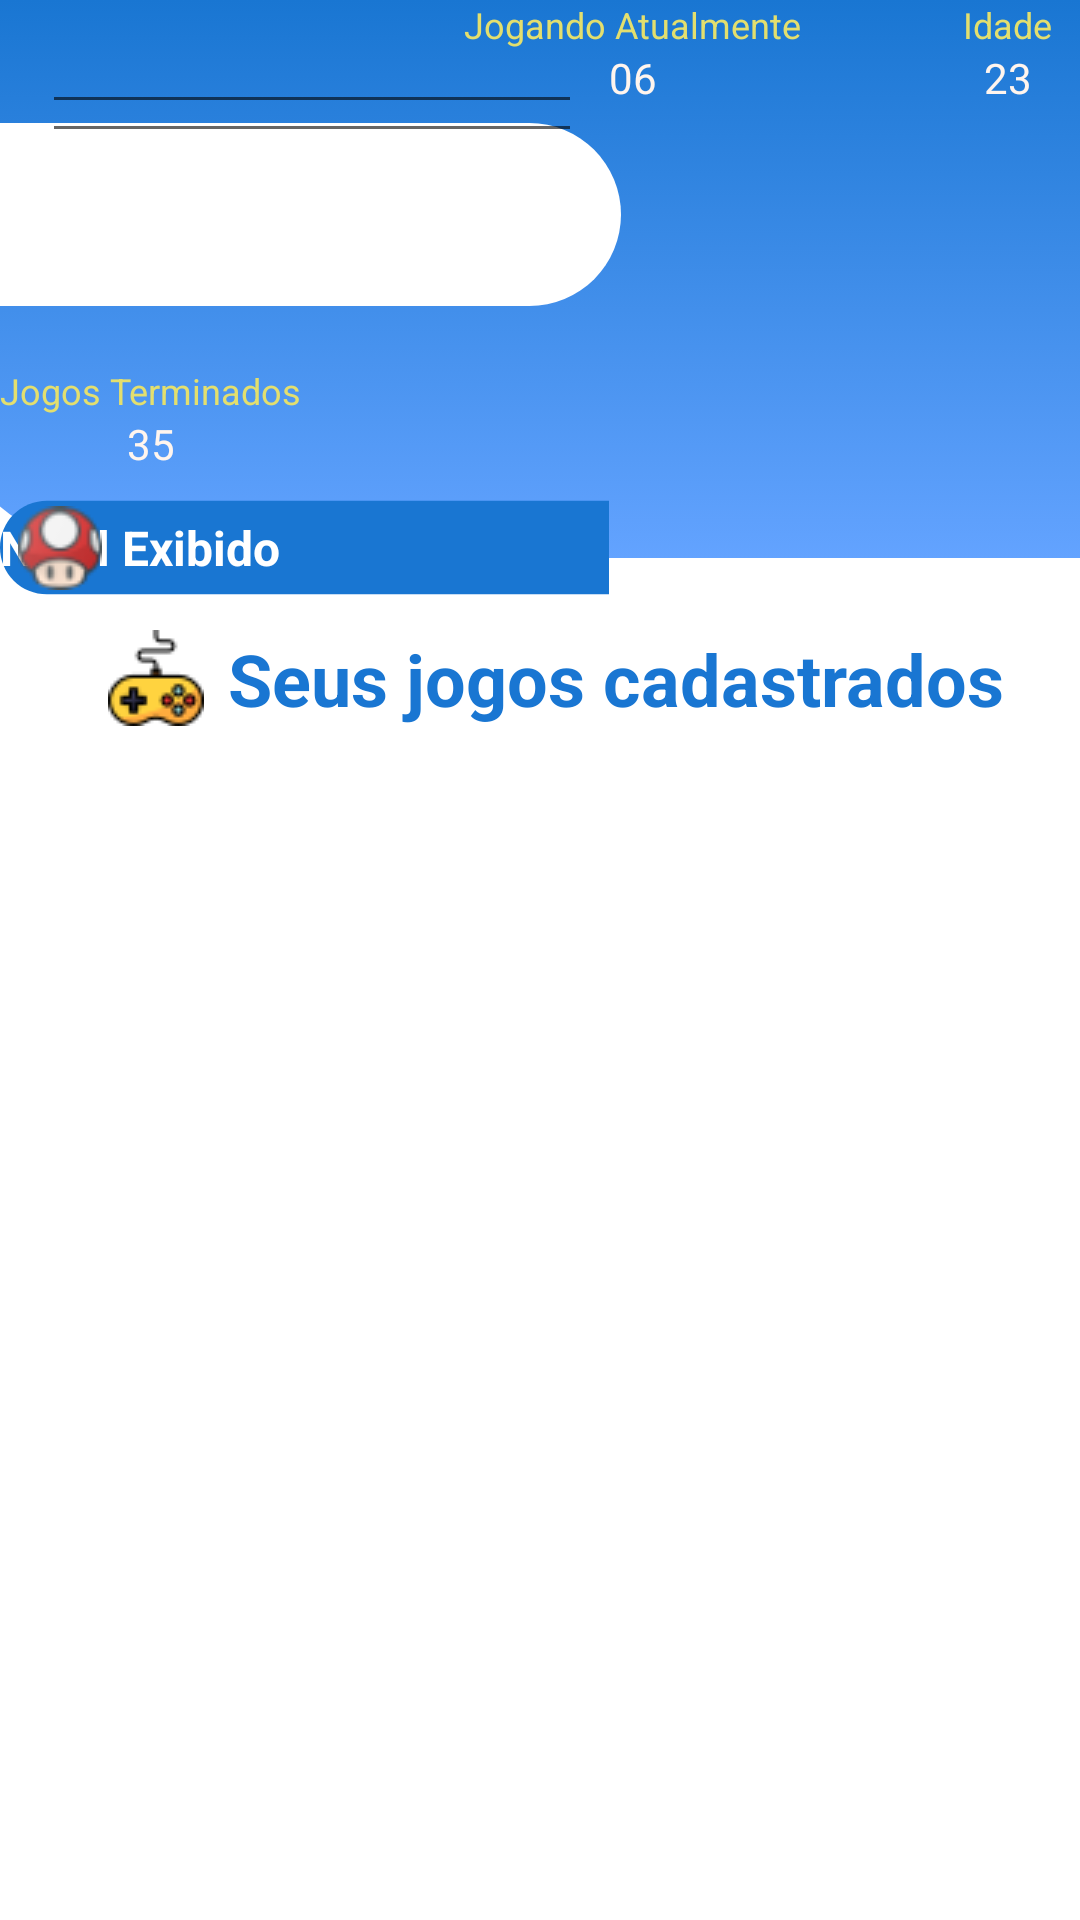

Named icons in this screenshot (1080 × 1920) and their bounding boxes, [x1, y1, x2, y2]:
joystick: [108, 630, 204, 726]
